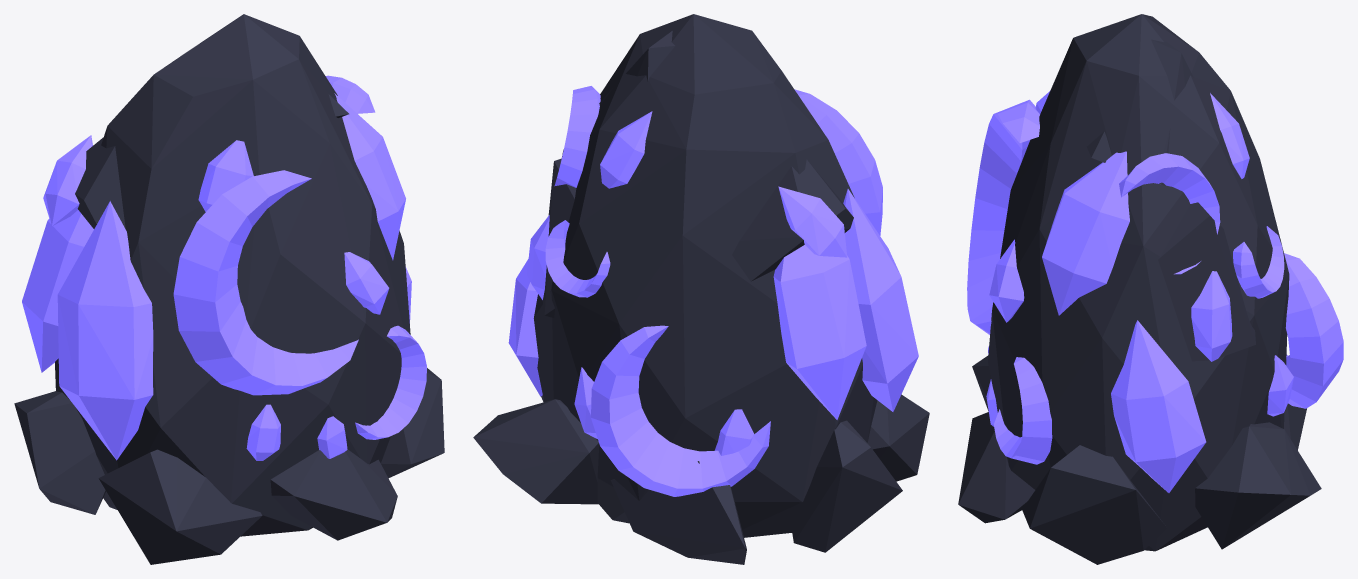
The model's file is Ore_DarkMoonstone.fbx.
3 renders of one model, left to right at view 1: azimuth 30°, elevation 25°; view 2: azimuth 150°, elevation 25°; view 3: azimuth 270°, elevation 25°, orthographic.
Visible parts, largest first — view 1: Ore_Rock, Ore_Crystal; view 2: Ore_Rock, Ore_Crystal; view 3: Ore_Rock, Ore_Crystal.
Boxes of the visible parts, left/top/right/bottom form: Ore_Rock: left=14, top=14, right=444, bottom=564; Ore_Crystal: left=22, top=75, right=426, bottom=460; Ore_Rock: left=473, top=14, right=929, bottom=564; Ore_Crystal: left=508, top=86, right=918, bottom=496; Ore_Rock: left=958, top=14, right=1321, bottom=564; Ore_Crystal: left=967, top=91, right=1343, bottom=492.
Size of the model in its own units: 1.66 by 2 by 1.45.
